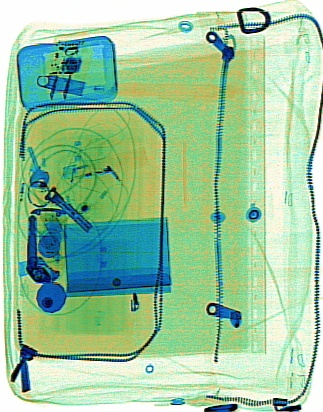lighter: (60, 144, 150, 183)
